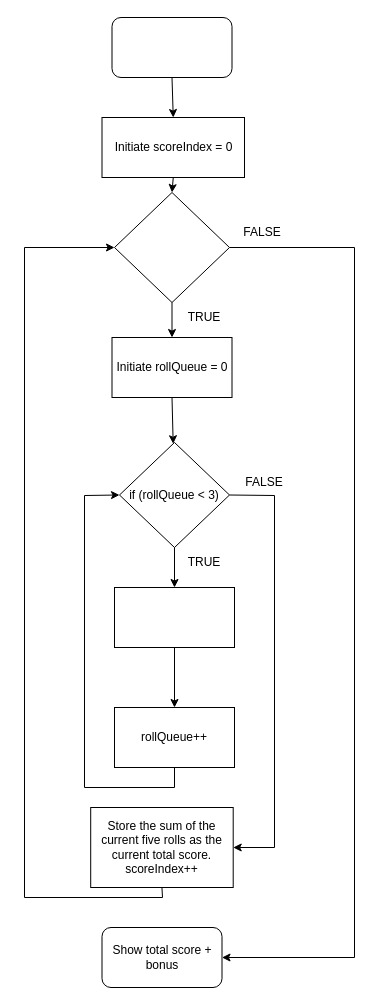
This 380x1005 diagram has some shape labels left out. Each missing label, with the box of its shape:
if (scoreIndex < 6): (114, 192, 230, 302)
Show all five dicerolls and allow the user to roll again: (114, 586, 234, 648)
Start: (111, 16, 232, 78)
